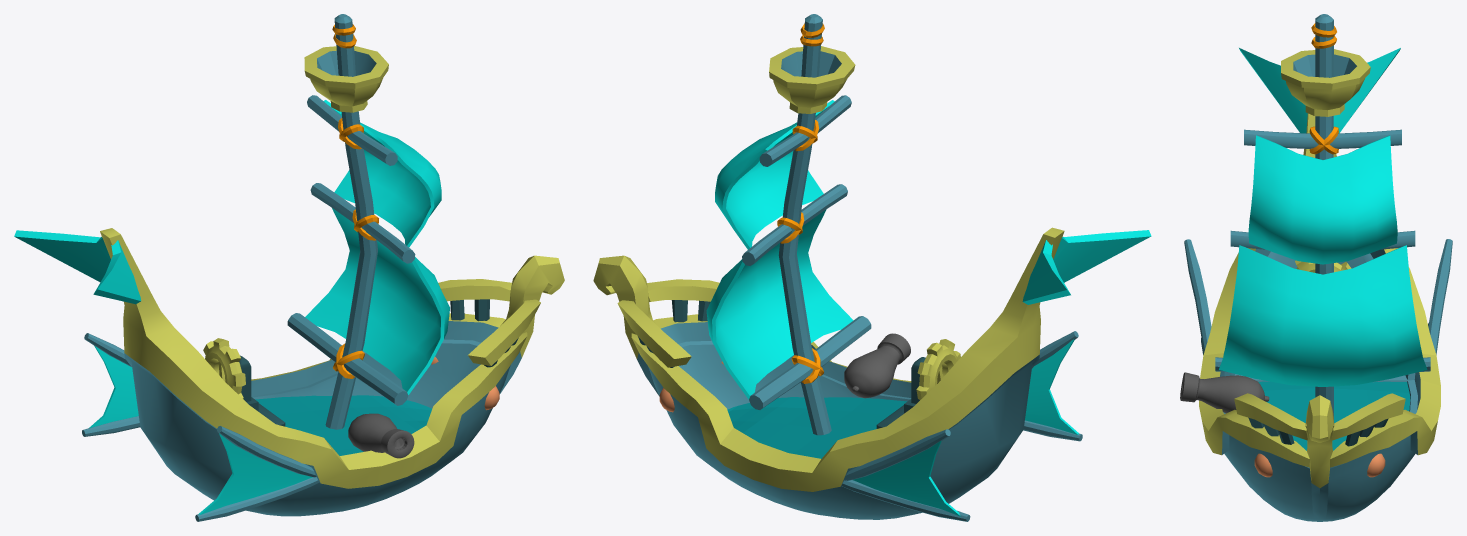
File: Nave veloce.fbx
3 renders of one model, left to right at view 1: azimuth 30°, elevation 25°; view 2: azimuth 150°, elevation 25°; view 3: azimuth 270°, elevation 25°, orthographic.
Parts seen in each view (by area): view 1: nave veloce; view 2: nave veloce; view 3: nave veloce.
Boxes of the visible parts, x1,y1,x2,y2 form: nave veloce: [14, 14, 564, 521]; nave veloce: [593, 14, 1151, 521]; nave veloce: [1180, 14, 1452, 521].
Size of the model in its own units: 1688 by 1508 by 777.
